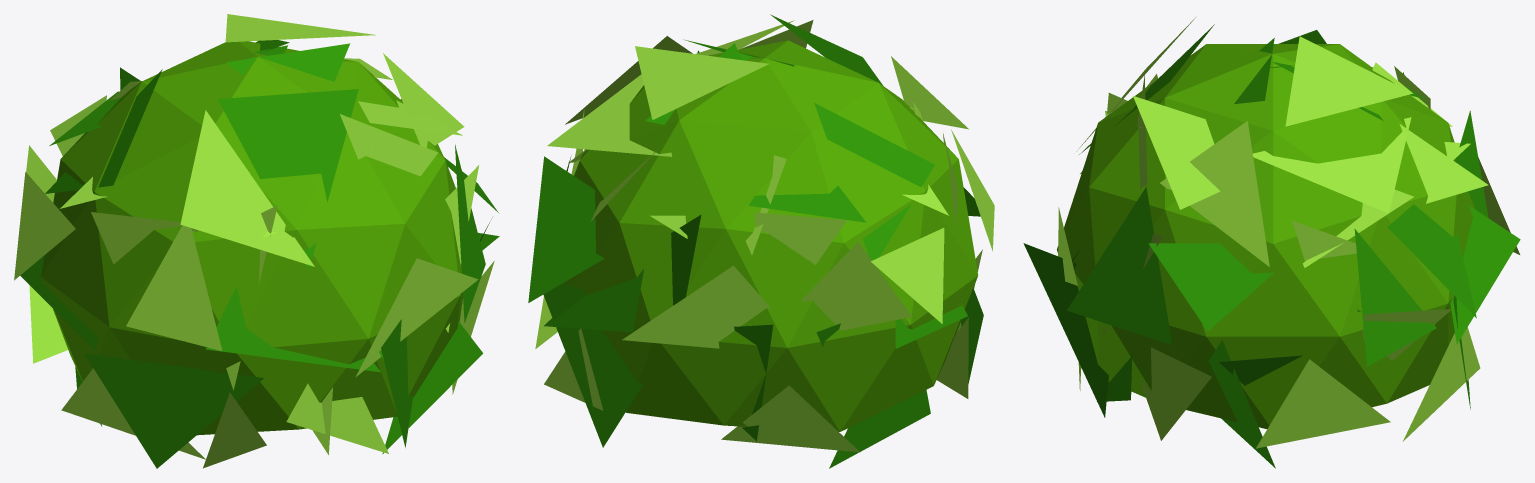
File: Low_Poly_Bush.fbx
3 views of the same model, side by side, from view 1: azimuth 30°, elevation 25°; view 2: azimuth 150°, elevation 25°; view 3: azimuth 270°, elevation 25° (orthographic). The views are drawn at different scales.
Visible parts, largest first — view 1: Bush; view 2: Bush; view 3: Bush.
Part boxes in pixels (x1=…): Bush: x1=14, y1=14, x2=499, y2=468; Bush: x1=528, y1=14, x2=994, y2=468; Bush: x1=1023, y1=17, x2=1520, y2=468.
Bounding box in the file's own units: 222 × 176 × 230.
